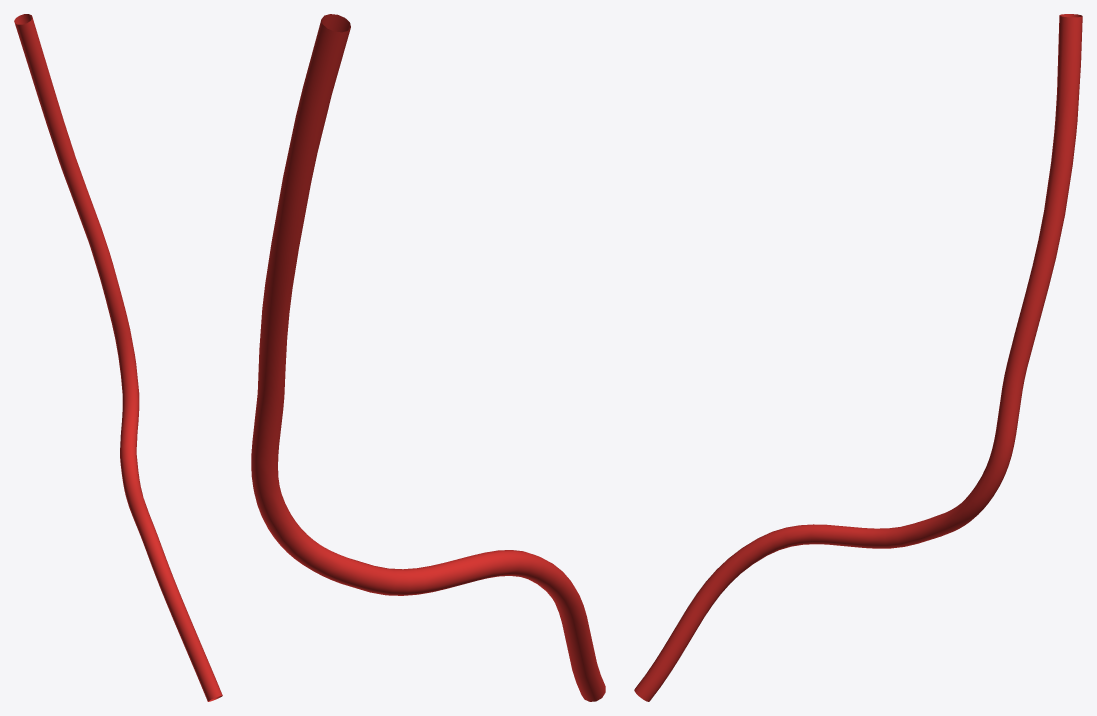
The model's file is circulatorio-recurrent-interosseous-artery-l.glb.
3 renders of one model, left to right at view 1: azimuth 30°, elevation 25°; view 2: azimuth 150°, elevation 25°; view 3: azimuth 270°, elevation 25°, orthographic. The views are drawn at different scales.
Parts seen in each view (by area): view 1: Recurrent interosseous artery.l; view 2: Recurrent interosseous artery.l; view 3: Recurrent interosseous artery.l.
Part boxes in pixels (<box>): Recurrent interosseous artery.l: <box>14,14,222,701</box>; Recurrent interosseous artery.l: <box>251,14,605,701</box>; Recurrent interosseous artery.l: <box>634,14,1082,701</box>.
Size of the model in its own units: 0.0132 by 0.0799 by 0.0478.
